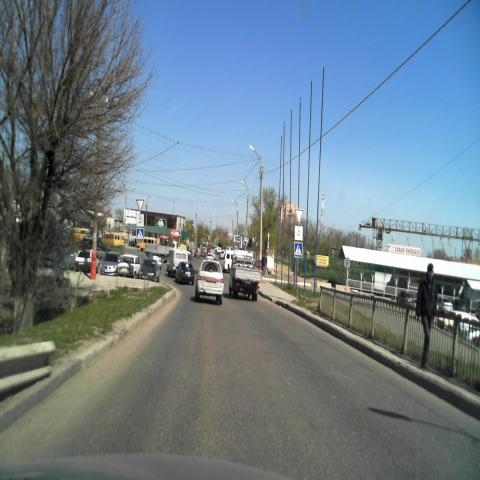8_13_1: (295, 226, 303, 240)
